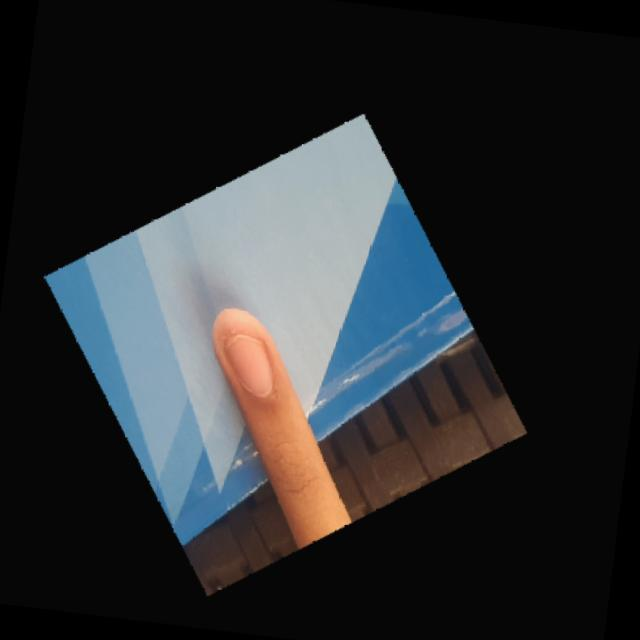Nail: (223, 331, 273, 391)
